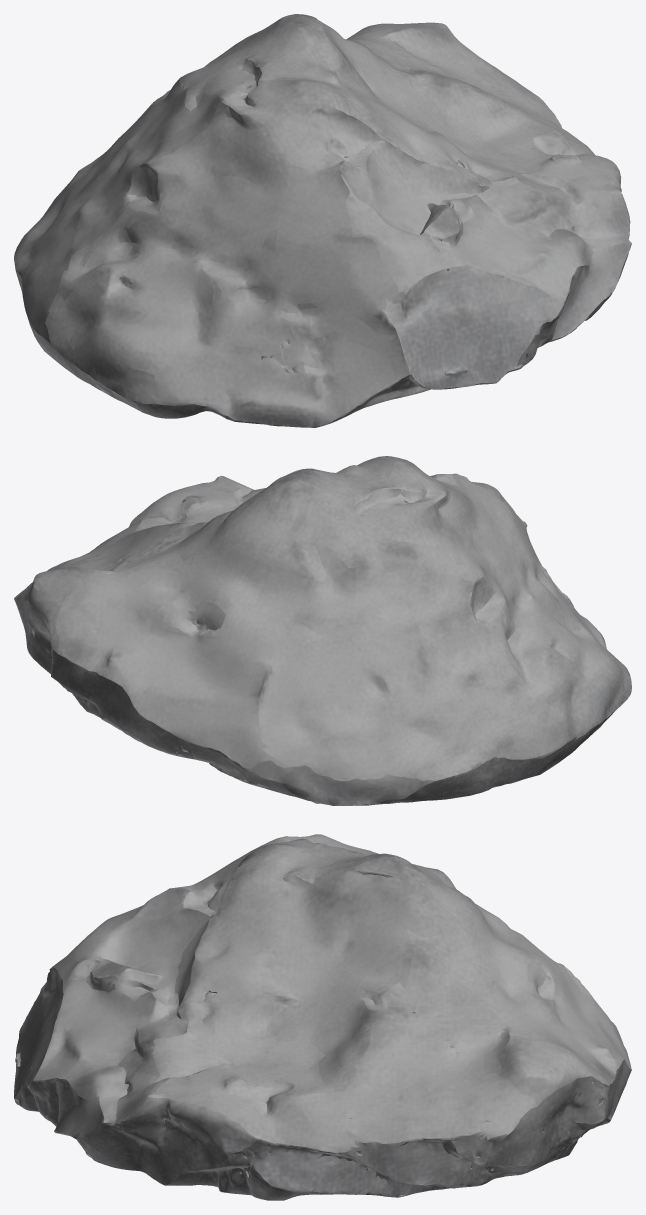
The picture shows the model from 3 angles, top to bottom: view 1: azimuth 30°, elevation 25°; view 2: azimuth 150°, elevation 25°; view 3: azimuth 270°, elevation 25°; orthographic projection. The views are drawn at different scales.
Parts seen in each view (by area): view 1: world; view 2: world; view 3: world.
Part boxes in pixels (left/top/right/bottom): world: left=14, top=14, right=631, bottom=427; world: left=14, top=456, right=631, bottom=805; world: left=14, top=834, right=631, bottom=1200.
Size of the model in its own units: 1.2 by 0.5782 by 1.19.
Materials: 1 (1 with a texture image).
